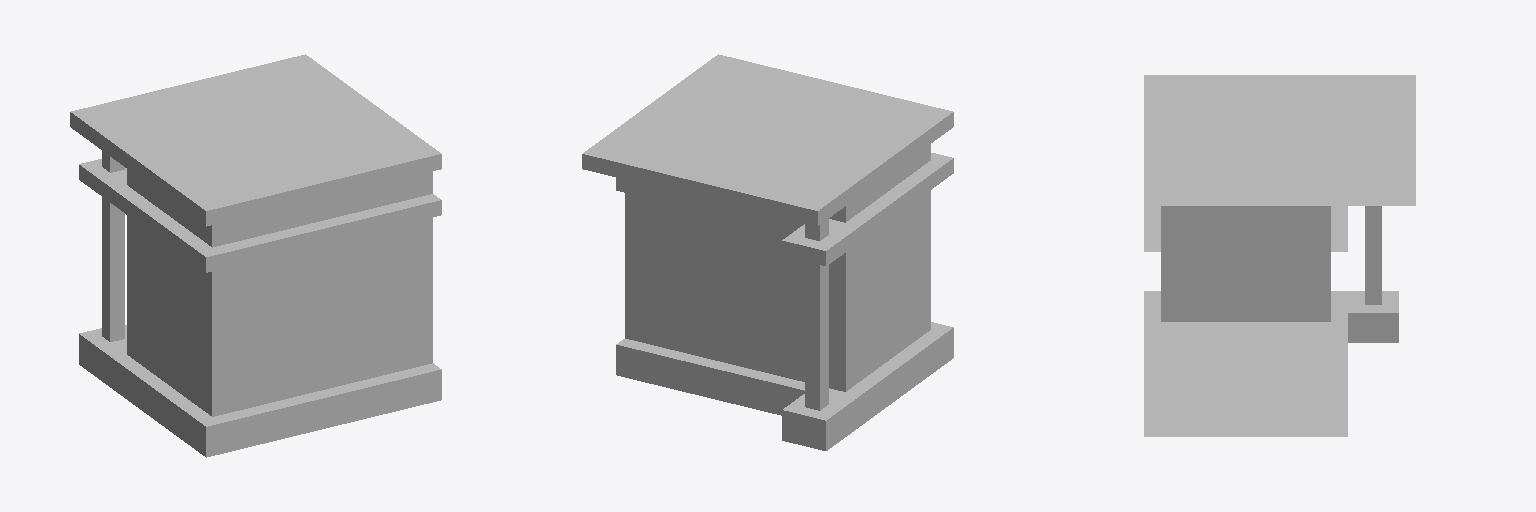
The model's file is desk_right.obj.
3 renders of one model, left to right at view 1: azimuth 30°, elevation 25°; view 2: azimuth 150°, elevation 25°; view 3: azimuth 270°, elevation 25°, orthographic.
Visible parts, largest first — view 1: DESK_RIGHT_MAIN.003; view 2: DESK_RIGHT_MAIN.003; view 3: DESK_RIGHT_MAIN.003.
Boxes of the visible parts, x1=… form: DESK_RIGHT_MAIN.003: x1=70, y1=54, x2=441, y2=457; DESK_RIGHT_MAIN.003: x1=582, y1=54, x2=953, y2=450; DESK_RIGHT_MAIN.003: x1=1144, y1=75, x2=1415, y2=436.
Bounding box in the file's own units: 1 × 1 × 1.